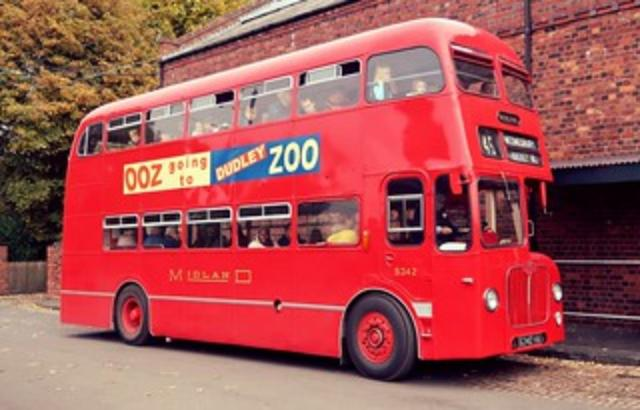bus: (56, 18, 566, 382)
